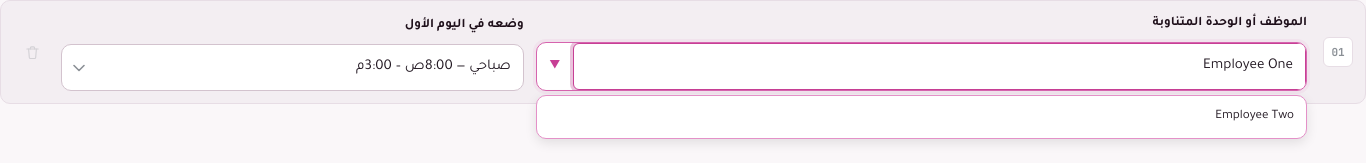
Test: UnitRow employee selection › keeps an existing employee when another employee is selected
What coordinates should you click on to do the following:
click the button with class "b-unit__combobox-option"
I would click on:
 (1255, 117)
Its box is [537,96,1306,138].
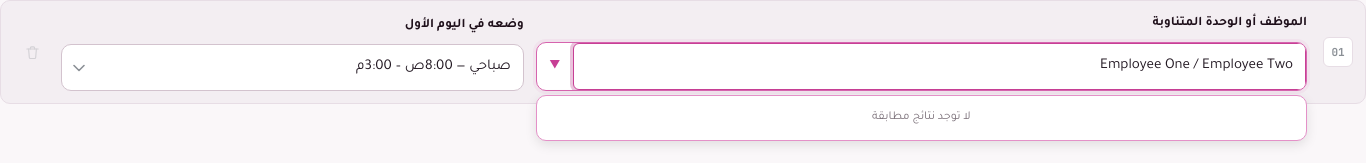
Now the field labelled "الموظف أو الوحدة المتناوبة" holds "Employee One / Employee Two", box [573,43,1306,90]
